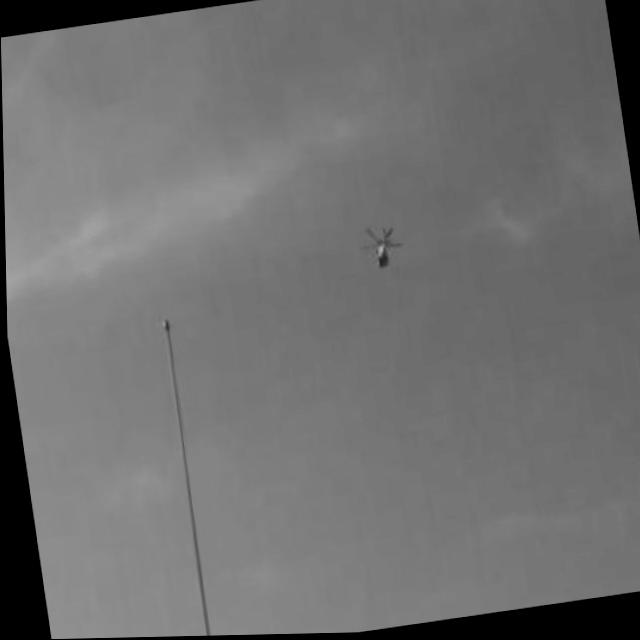helikopter: (357, 218, 406, 280)
